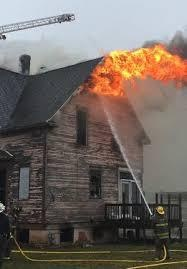fire: (84, 41, 187, 96)
